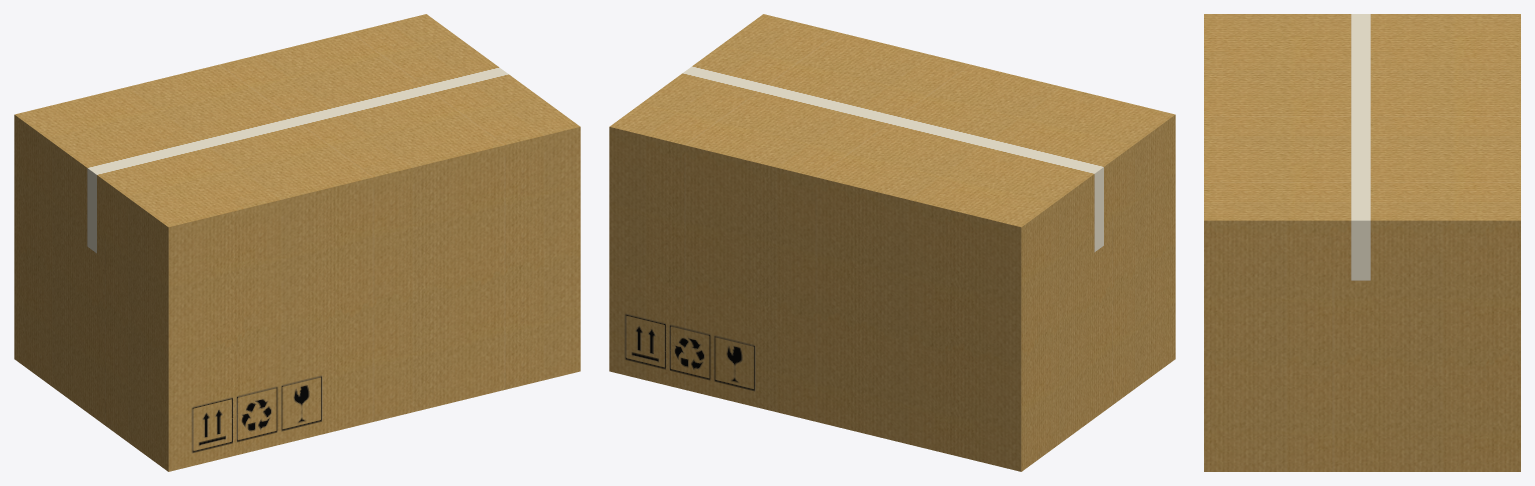
The picture shows the model from 3 angles, left to right: view 1: azimuth 30°, elevation 25°; view 2: azimuth 150°, elevation 25°; view 3: azimuth 270°, elevation 25°; orthographic projection. The views are drawn at different scales.
Visible parts, largest first — view 1: mesh_box_01; view 2: mesh_box_01; view 3: mesh_box_01.
Part boxes in pixels (<box>): mesh_box_01: <box>14,14,580,471</box>; mesh_box_01: <box>609,14,1175,471</box>; mesh_box_01: <box>1204,14,1520,471</box>.
Bounding box in the file's own units: 1.62 × 0.9195 × 1.05.
1 material, 1 textured.
